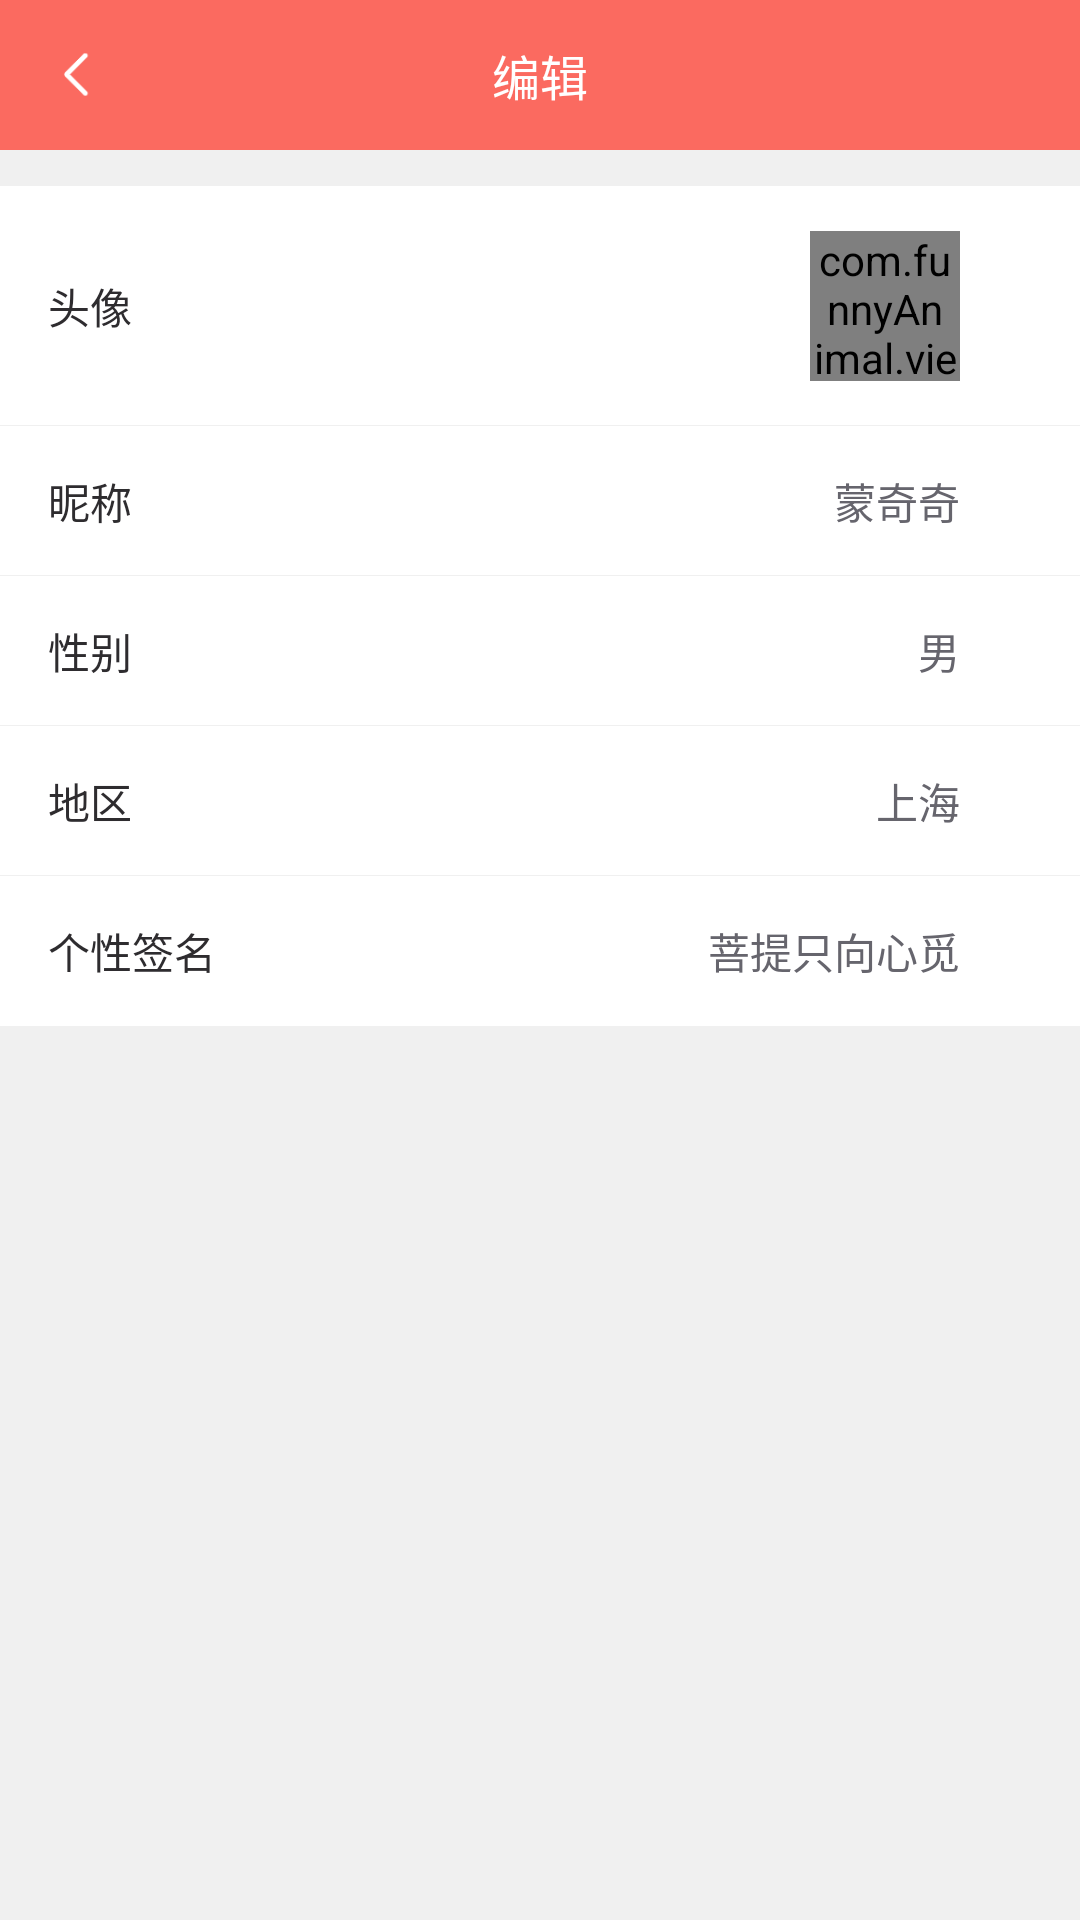

Screen size 1080*1920. Icon name, then its center in pixels as (x=x, y=y):
back: (x=76, y=74)
